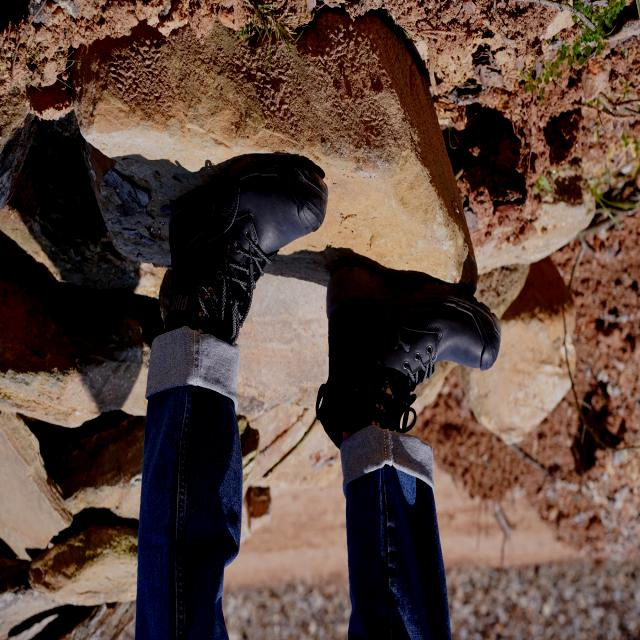Boots: (319, 256, 504, 463), (158, 146, 331, 354)
